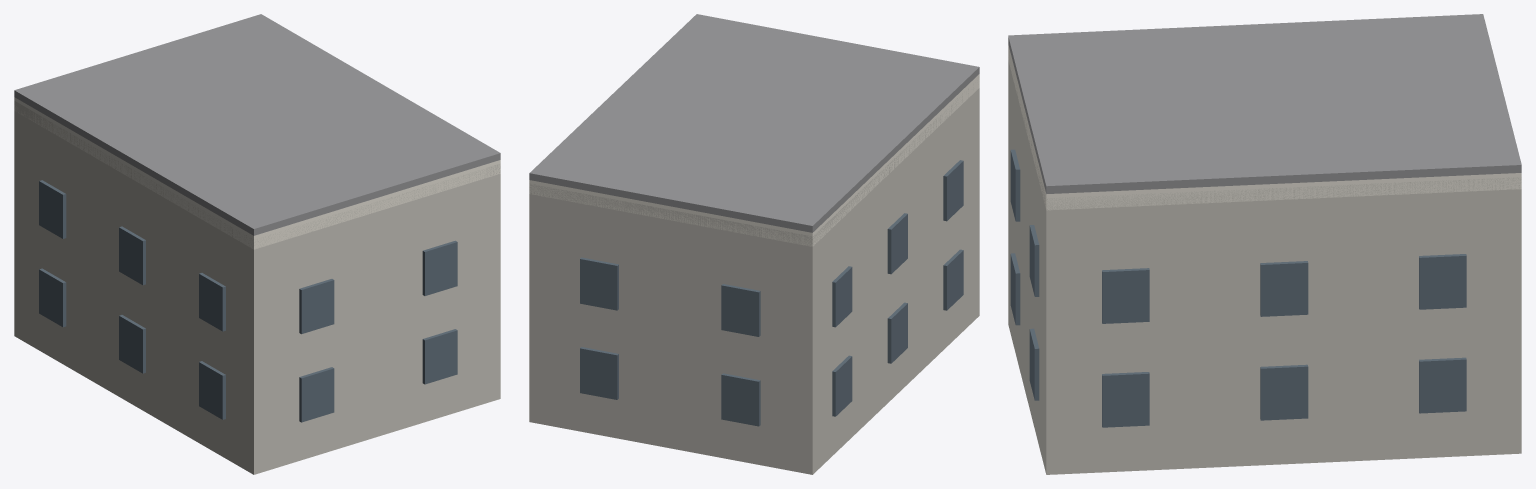
File: s27_tile_tile__1__1_74.glb
3 views of the same model, side by side, from view 1: azimuth 30°, elevation 25°; view 2: azimuth 150°, elevation 25°; view 3: azimuth 270°, elevation 25° (orthographic). The views are drawn at different scales.
Visible parts, largest first — view 1: mass, roofcap, cornice, win_0_0_0, win_0_0_1, win_0_1_0, win_0_1_1, win_3_1_0, win_3_0_0, win_3_0_2, win_3_0_1, win_3_1_1 (+1 smaller); view 2: mass, roofcap, cornice, win_2_0_1, win_2_1_1, win_2_0_0, win_2_1_0, win_3_0_0, win_3_1_1, win_3_0_2, win_3_0_1, win_3_1_0 (+1 smaller); view 3: mass, roofcap, cornice, win_1_0_1, win_1_1_1, win_1_0_2, win_1_1_0, win_1_1_2, win_1_0_0, win_0_1_0, win_0_0_0, win_0_0_1 (+1 smaller).
Part boxes in pixels (x1,y1,x2,y2): mass: (14,101,500,474); roofcap: (14,14,500,235); cornice: (14,97,500,249); win_0_0_0: (299,367,334,422); win_0_0_1: (422,329,457,384); win_0_1_0: (299,279,334,334); win_0_1_1: (422,240,457,295); win_3_1_0: (39,180,66,238); win_3_0_0: (39,268,66,327); win_3_0_2: (199,361,225,419); win_3_0_1: (119,315,145,373); win_3_1_1: (119,226,145,285); mass: (529,84,979,474); roofcap: (529,14,979,232); cornice: (529,74,979,246); win_2_0_1: (721,373,760,426); win_2_1_1: (721,284,760,336); win_2_0_0: (580,347,618,399); win_2_1_0: (580,257,618,310); win_3_0_0: (832,355,852,416); win_3_1_1: (887,213,907,274); win_3_0_2: (943,249,963,310); win_3_0_1: (887,302,907,363); win_3_1_0: (832,266,852,327); mass: (1008,60,1521,474); roofcap: (1008,14,1521,193); cornice: (1008,45,1521,210); win_1_0_1: (1260,364,1308,420); win_1_1_1: (1260,261,1308,316); win_1_0_2: (1419,357,1466,413); win_1_1_0: (1102,268,1149,323); win_1_1_2: (1419,254,1466,309); win_1_0_0: (1102,372,1149,427); win_0_1_0: (1010,149,1020,221); win_0_0_0: (1010,253,1020,325); win_0_0_1: (1029,328,1039,400).
Size of the model in its own units: 10.68 by 8.35 by 13.46.
